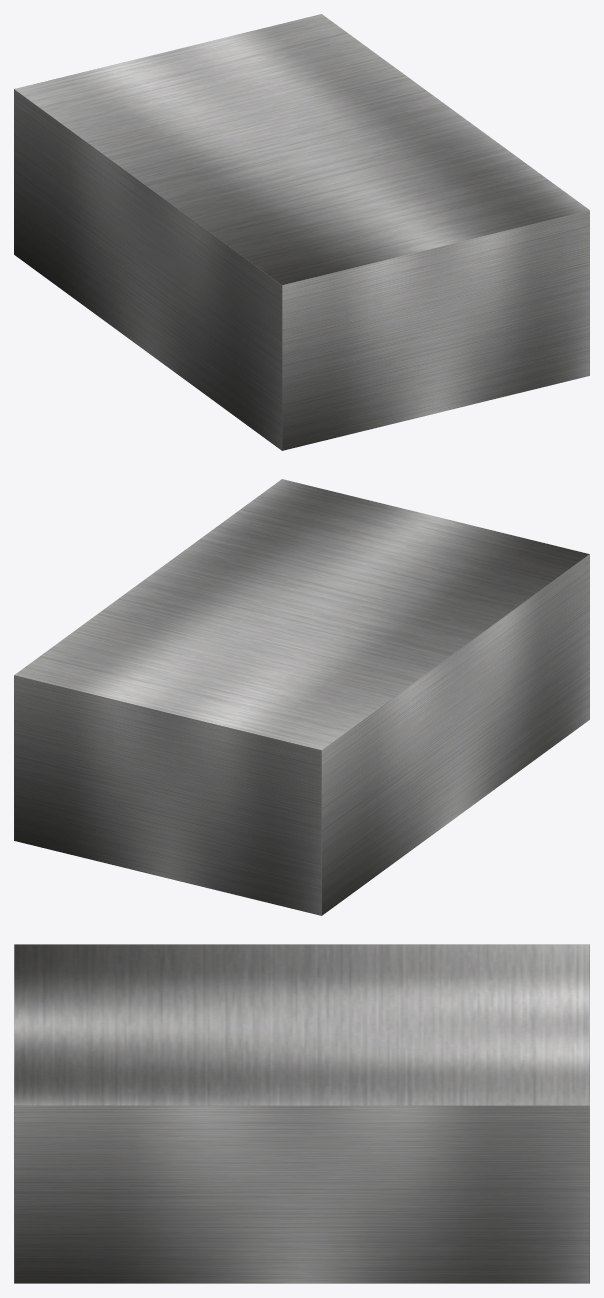
File: VillageHouse1.FBX
The picture shows the model from 3 angles, top to bottom: view 1: azimuth 30°, elevation 25°; view 2: azimuth 150°, elevation 25°; view 3: azimuth 270°, elevation 25°; orthographic projection. The views are drawn at different scales.
Parts seen in each view (by area): view 1: Box001; view 2: Box001; view 3: Box001.
Boxes of the visible parts, left/top/right/bottom form: Box001: left=14, top=14, right=589, bottom=450; Box001: left=14, top=479, right=589, bottom=915; Box001: left=14, top=944, right=589, bottom=1283.
Size of the model in its own units: 17.58 by 9.04 by 26.53.
1 material, 1 textured.
